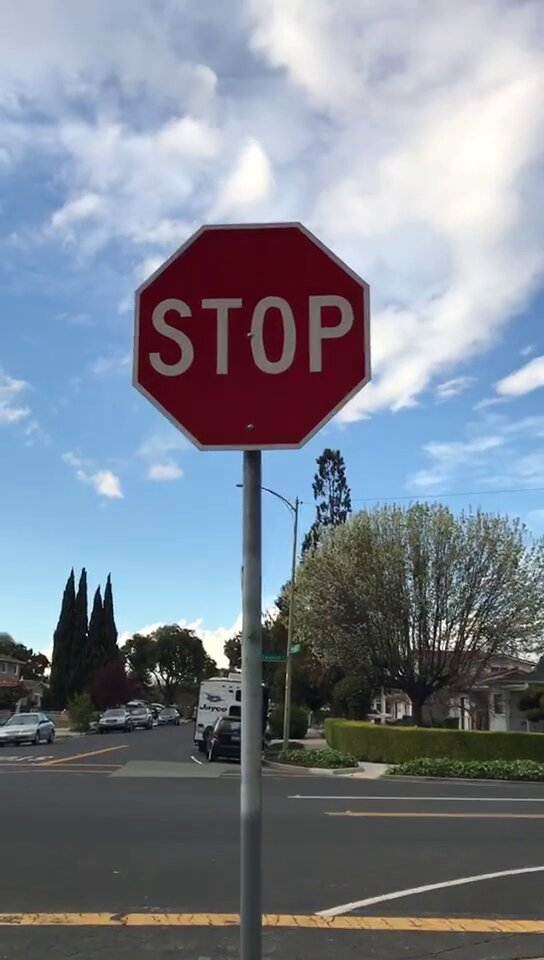stop_sign: (137, 225, 372, 447)
